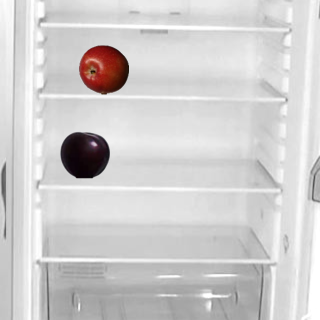Apple Braeburn: (78, 44, 128, 94)
Cherry Wax Black: (59, 129, 109, 179)
